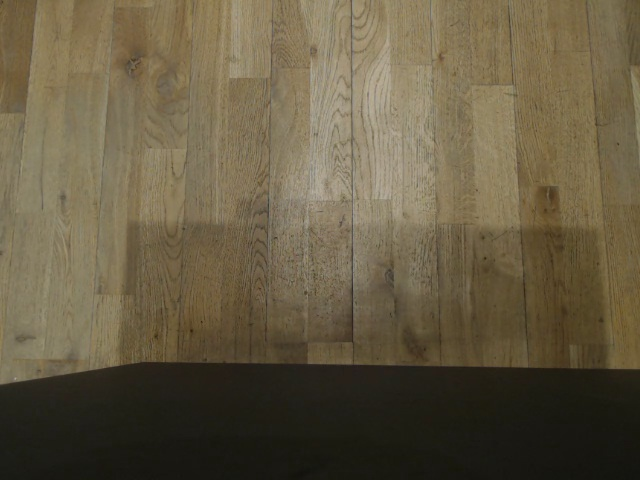beer: (254, 49, 348, 134), (127, 287, 218, 354), (217, 290, 308, 353), (448, 326, 546, 369), (84, 0, 163, 39)
